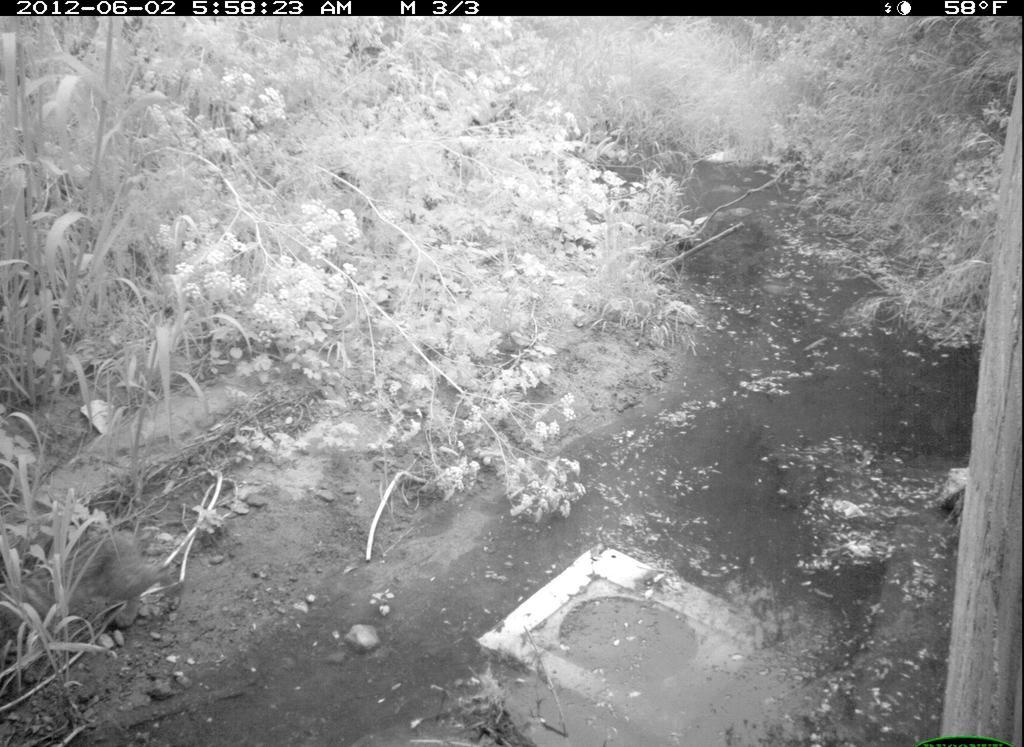bobcat: (3, 515, 189, 666)
